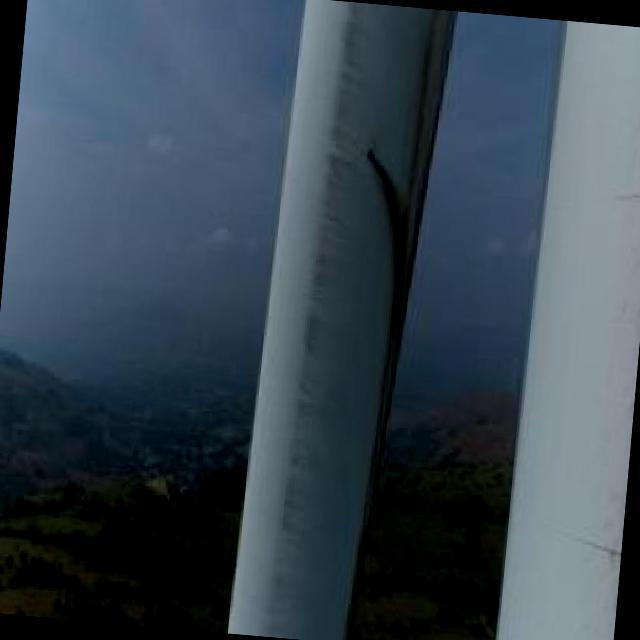Dirt: (265, 0, 360, 639)
Oil LEAKAGE: (366, 0, 445, 465)
Pin Hole: (368, 146, 379, 160)
